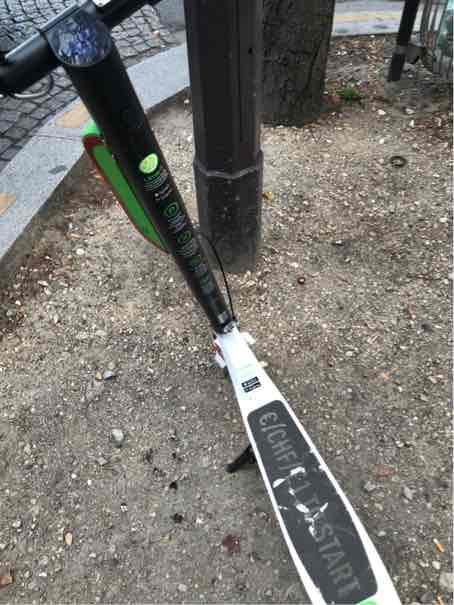scooter: (4, 5, 414, 604)
